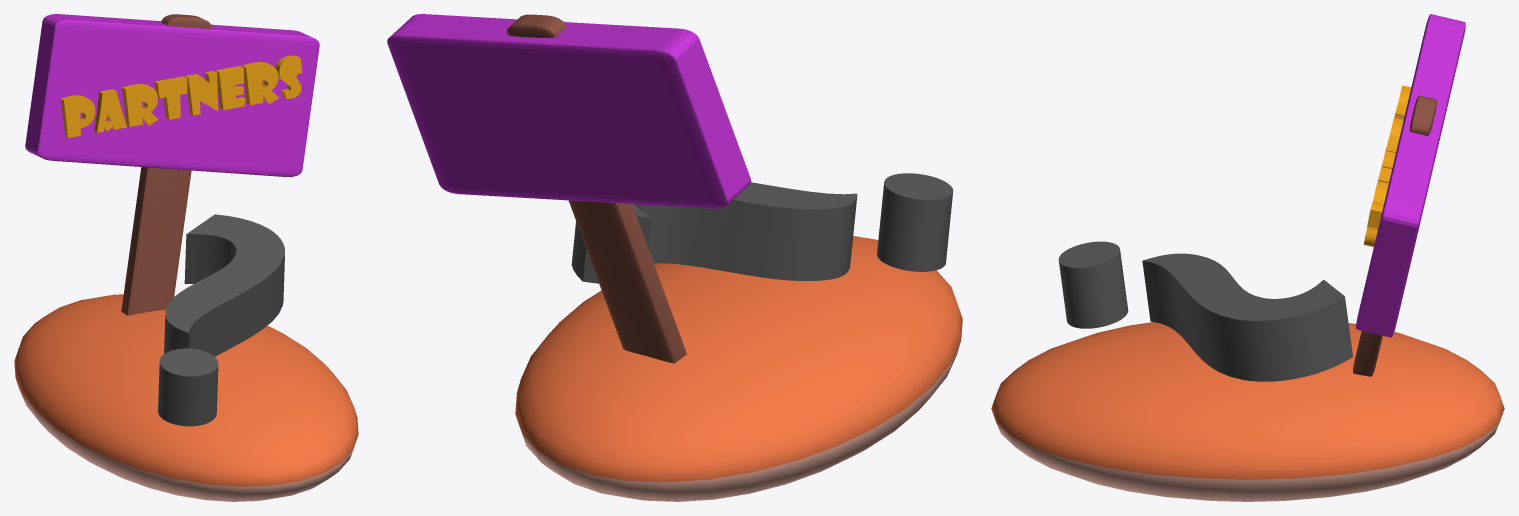
The model's file is WEB3_MENU(1MESH)_P.gltf.
3 views of the same model, side by side, from view 1: azimuth 30°, elevation 25°; view 2: azimuth 150°, elevation 25°; view 3: azimuth 270°, elevation 25° (orthographic). The views are drawn at different scales.
Visible parts, largest first — view 1: Sphere.003; view 2: Sphere.003; view 3: Sphere.003.
Boxes of the visible parts, box(x1,y1,x2,y2) form: Sphere.003: box(14, 14, 358, 501); Sphere.003: box(387, 14, 962, 501); Sphere.003: box(991, 14, 1504, 501).
Size of the model in its own units: 1.22 by 1.38 by 1.49.
